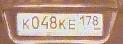license-plateSW: (16, 12, 103, 33)
